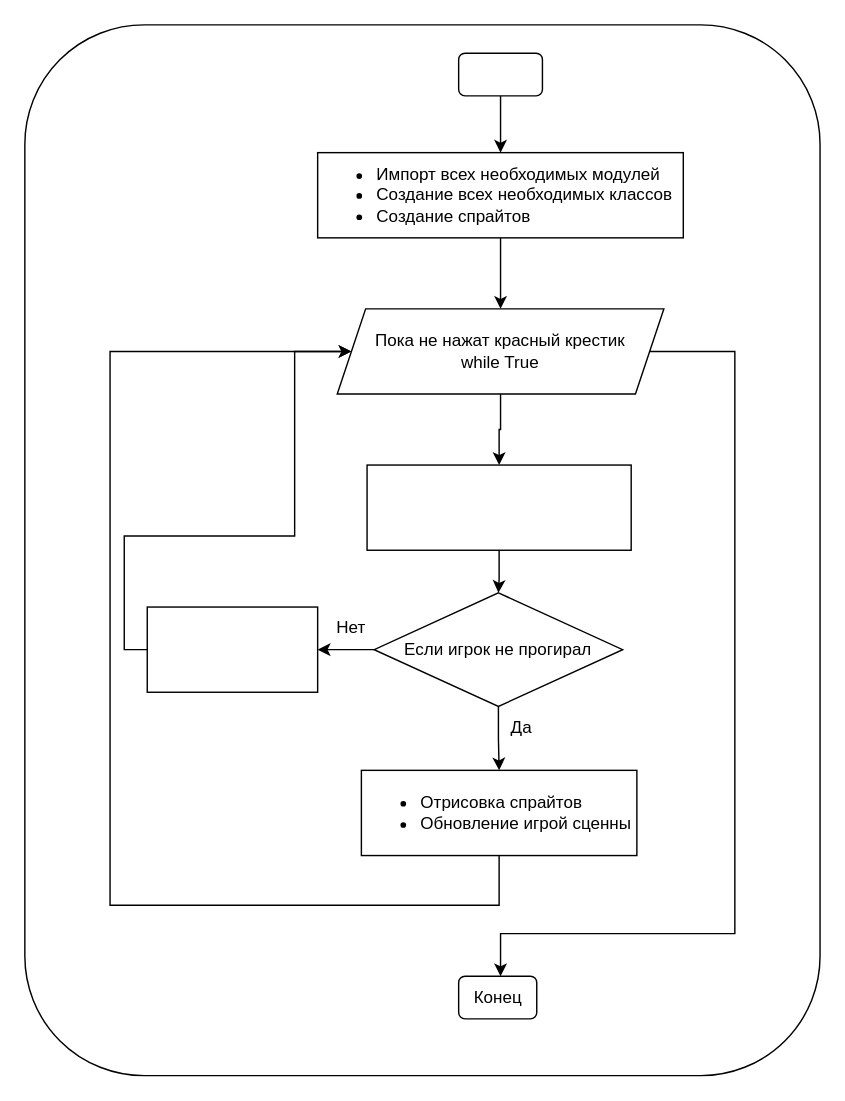
The diagram is 845 pixels wide and 1101 high, and some of its shapes have lost their labels. Here are the shapes that lost their labels. From the top down, the centre of each, then its label:
point 499,74: Начало
point 498,507: обнавление расположения всех спрайтов
point 232,649: Вывод надписи "вы проиграли"
